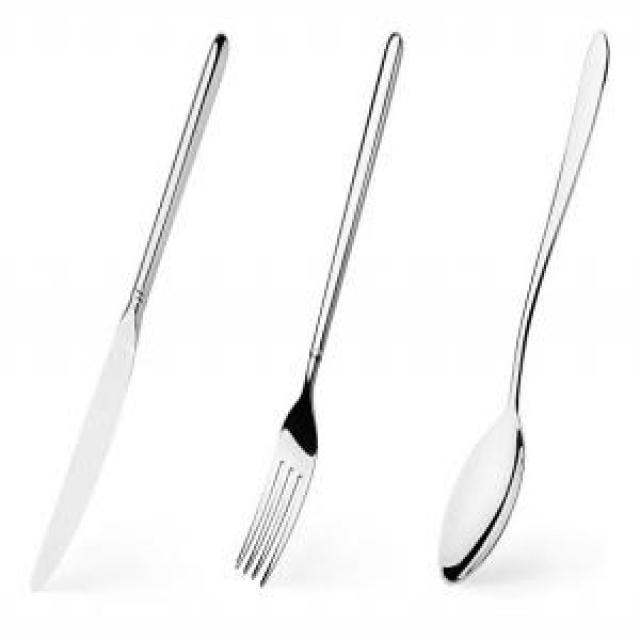knife: (19, 24, 239, 582)
